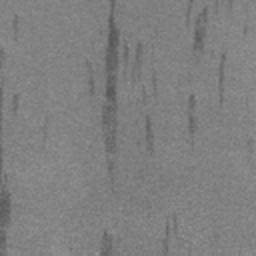Red iron sheet: (85, 0, 157, 194), (0, 82, 19, 256), (186, 0, 233, 54), (135, 114, 154, 156), (162, 217, 177, 256), (187, 94, 198, 146), (100, 230, 121, 256), (219, 54, 226, 103), (0, 49, 5, 68), (13, 15, 18, 33)
